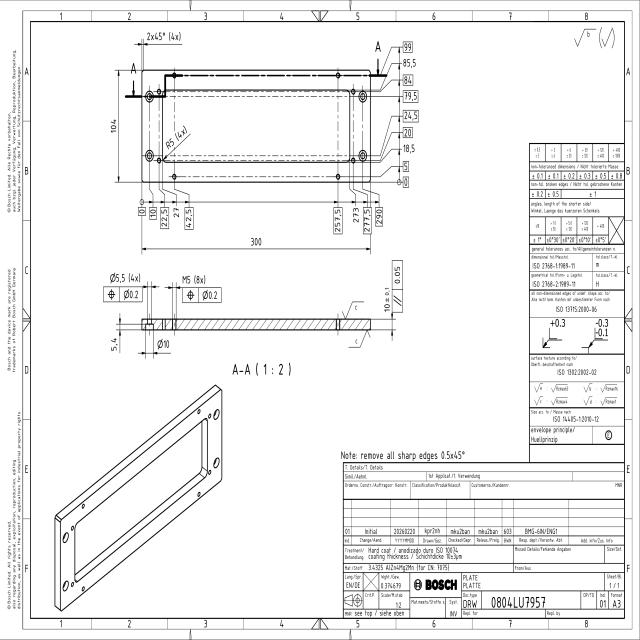dimension: (166, 123, 188, 151), (146, 30, 182, 42), (109, 271, 141, 284), (362, 206, 372, 235), (333, 206, 343, 235), (182, 274, 206, 286), (160, 206, 170, 230), (184, 206, 194, 230), (402, 90, 418, 104), (402, 109, 419, 122), (383, 286, 391, 313), (375, 206, 384, 228), (402, 57, 417, 69), (402, 126, 414, 139), (157, 338, 170, 350), (402, 143, 416, 154), (148, 206, 158, 220), (352, 207, 360, 224), (250, 236, 262, 247), (402, 74, 413, 86), (110, 336, 118, 352), (402, 41, 413, 52), (110, 119, 118, 133), (137, 206, 147, 216), (402, 176, 410, 188), (173, 207, 180, 218), (403, 160, 409, 172)
